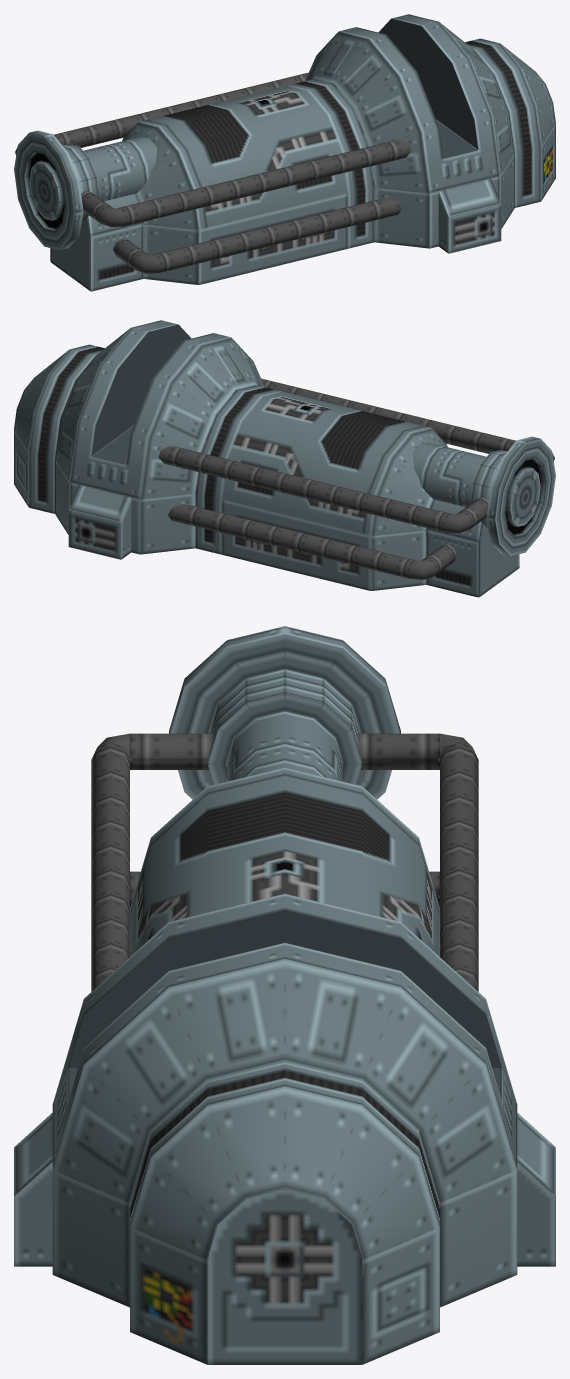
Rendered from mhdt_static.obj.
3 renders of one model, top to bottom at view 1: azimuth 30°, elevation 25°; view 2: azimuth 150°, elevation 25°; view 3: azimuth 270°, elevation 25°, orthographic. The views are drawn at different scales.
Parts seen in each view (by area): view 1: Turbine; view 2: Turbine; view 3: Turbine.
Part boxes in pixels (x1,y1,x2,y2): Turbine: [14, 14, 555, 291]; Turbine: [14, 320, 555, 597]; Turbine: [14, 626, 555, 1364].
Bounding box in the file's own units: 14 × 4.5 × 7.
